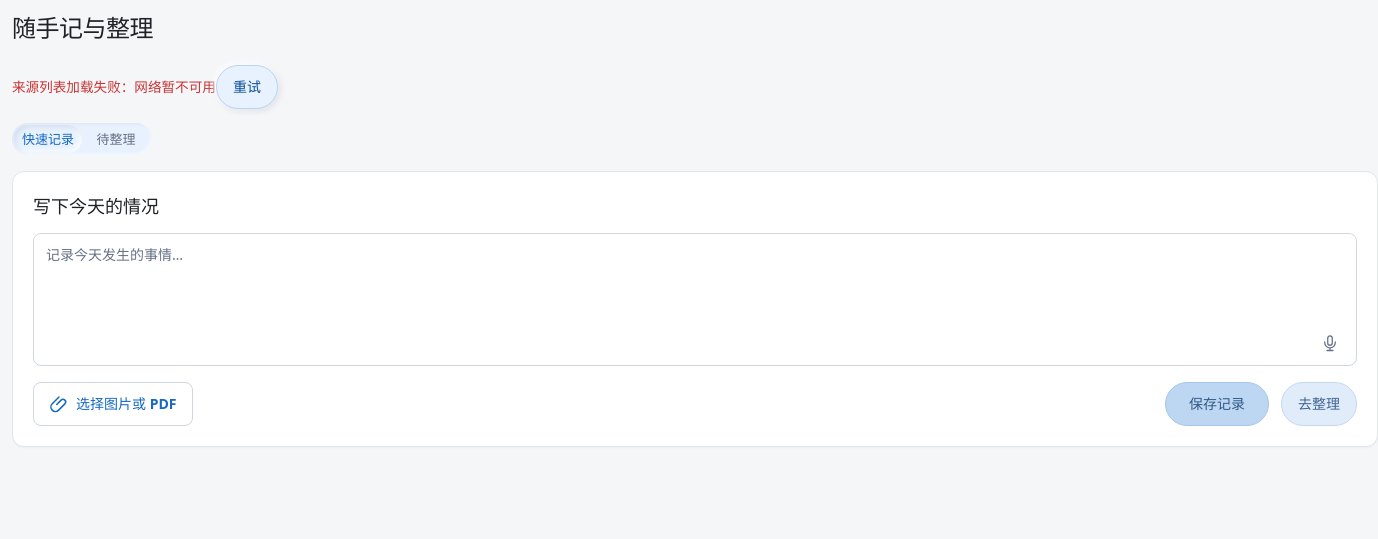
Test: App › 来源列表加载失败后可重试，整理页共享刷新结果
The image size is (1378, 539).
Click the button "重试" at (247,87), box [216,65,278,109]
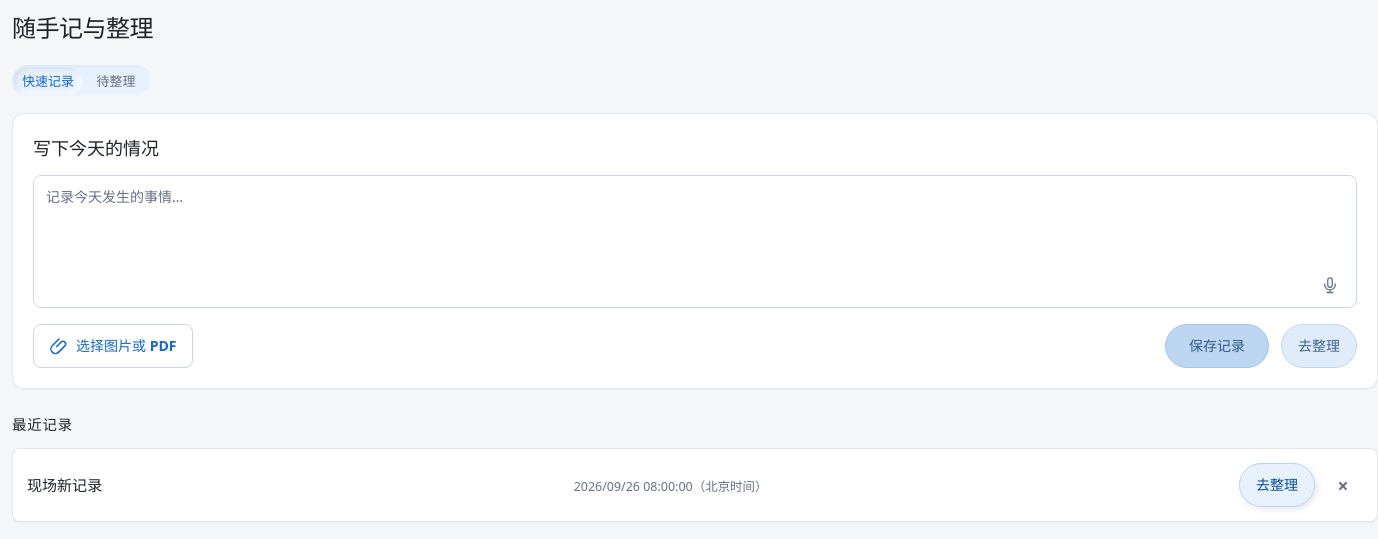
Check: the text "现场新记录" is shown, box [27,474,102,496]
